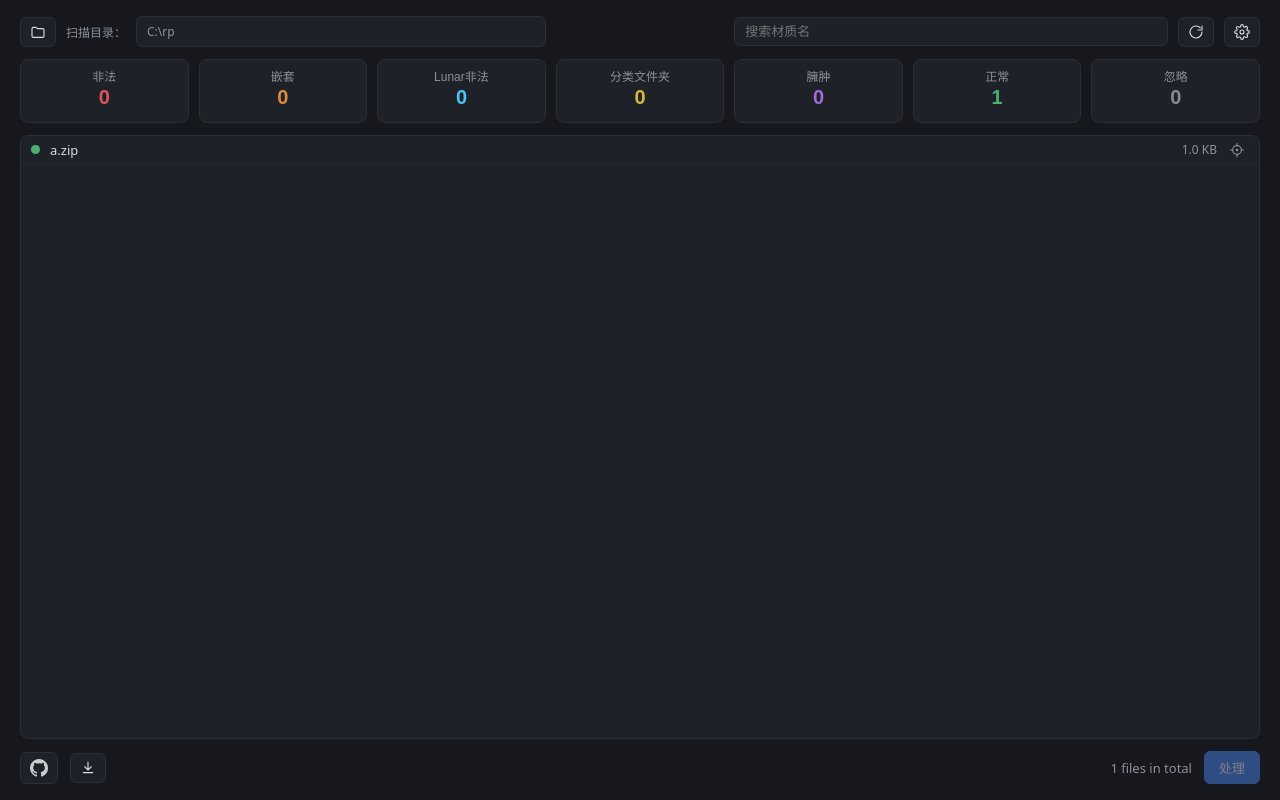
Test: the settings dialog hosts the language select and the auto-scan toggle
Expected: the text "a.zip" is shown, 50,140 -> 78,158
Click the button named "设置" at (1242, 32), box 1224,16 -> 1260,46
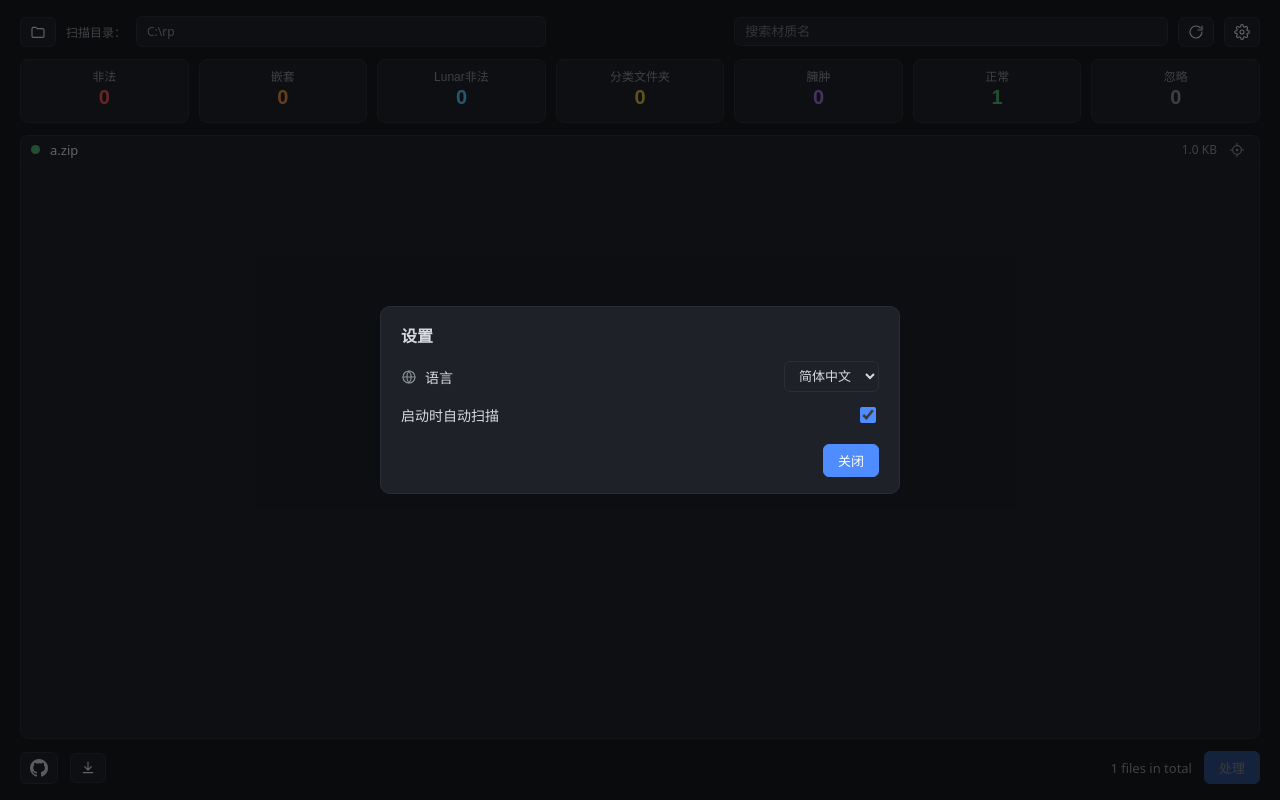
Select "English" in the dropdown named "语言" at (832, 376), box 784,361 -> 879,392
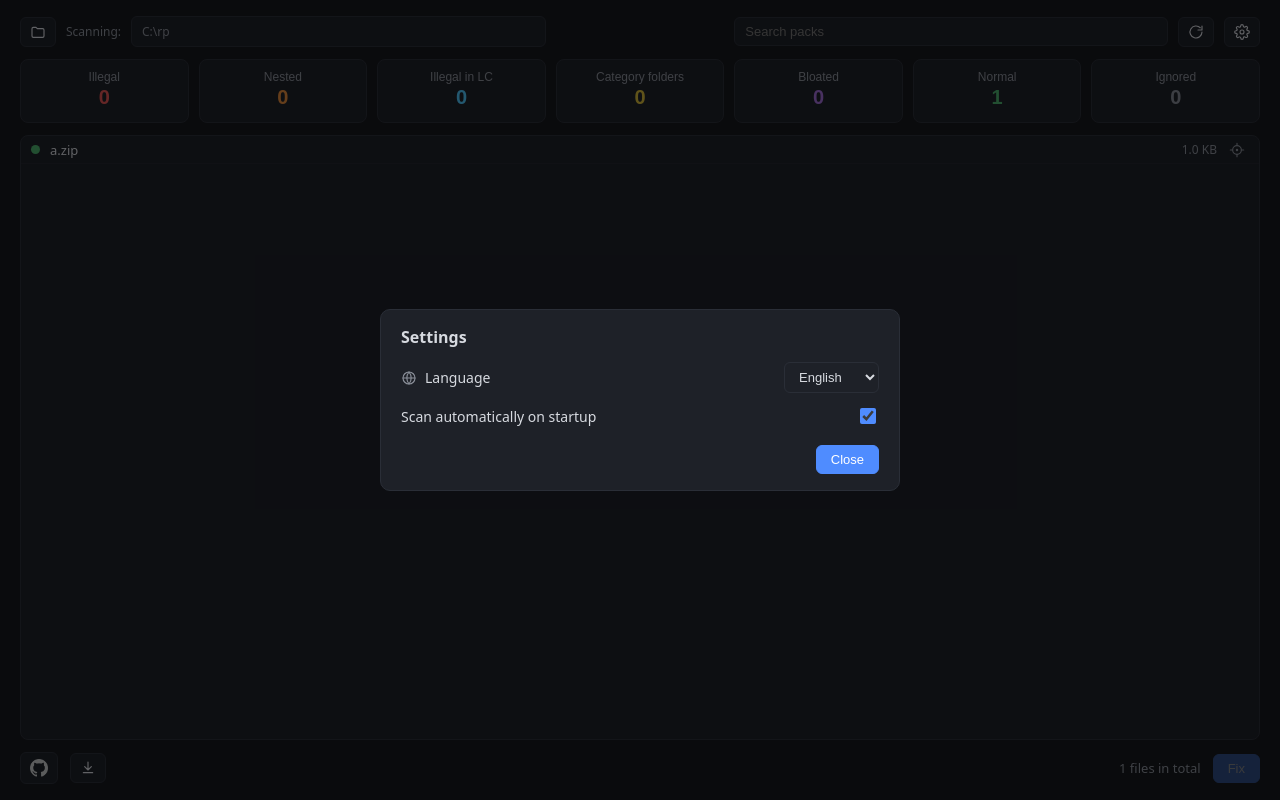
Now the checkbox named "Scan automatically on startup" is checked
Now the heading "Settings" is shown, box 401,326 -> 467,348
Click the checkbox named "Scan automatically on startup" at (868, 416), box 860,408 -> 876,424
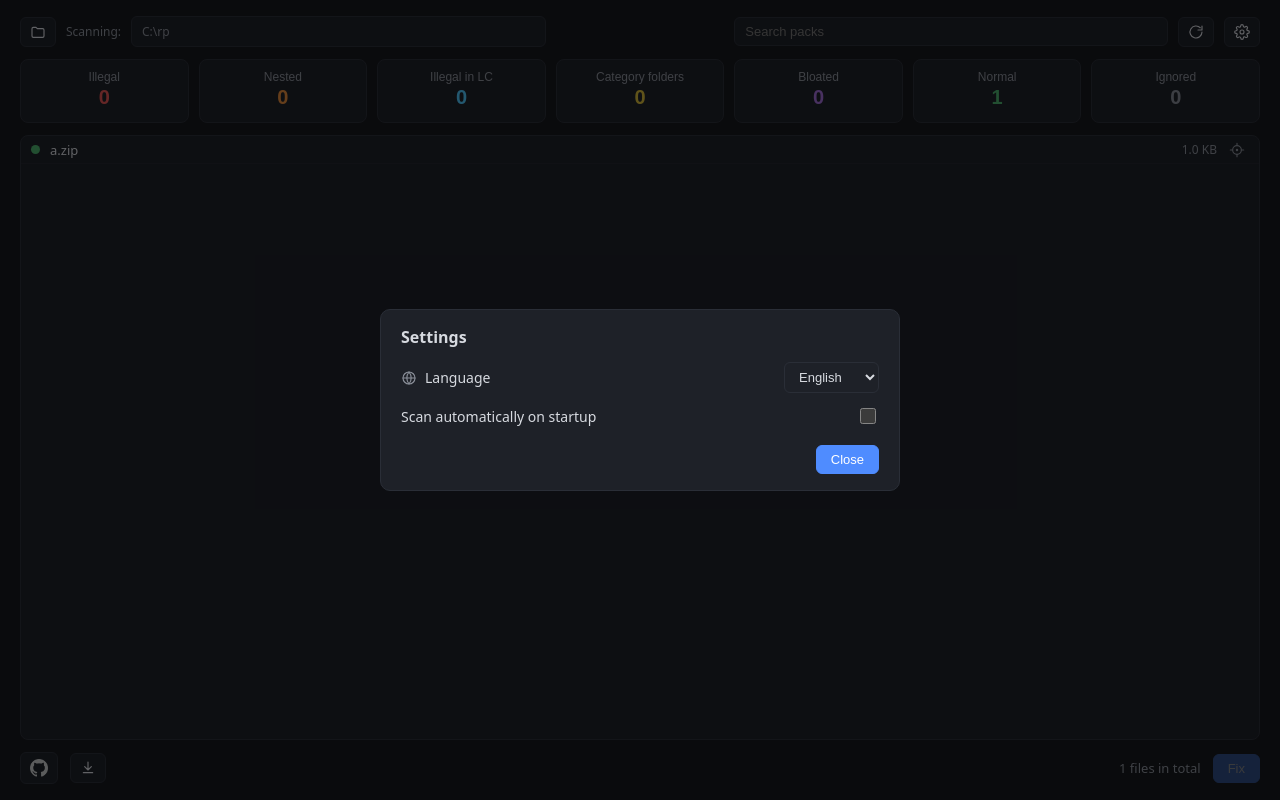
Click the button "Close" at (847, 460), box 816,445 -> 879,474
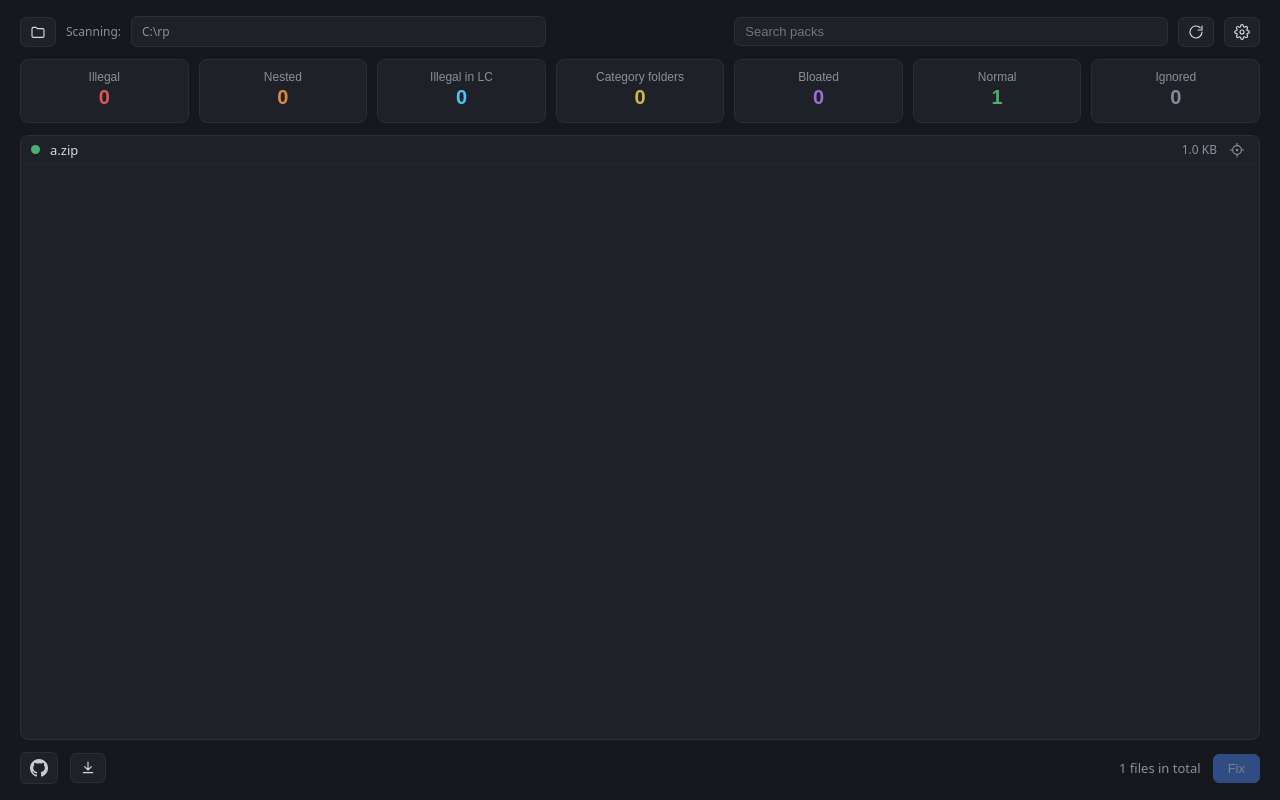
Now the heading "Settings" is gone
